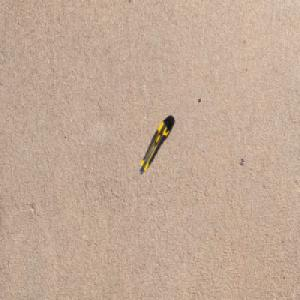Cutter: (139, 116, 172, 175)
